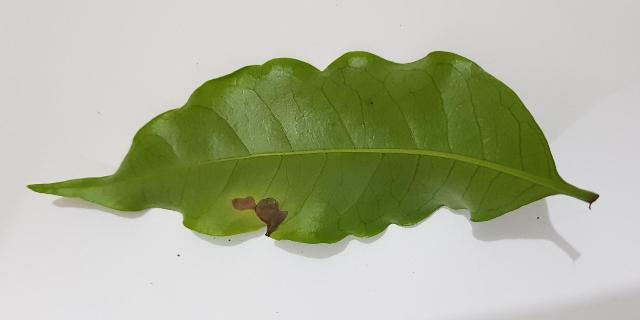cercospora: (231, 196, 287, 237)
